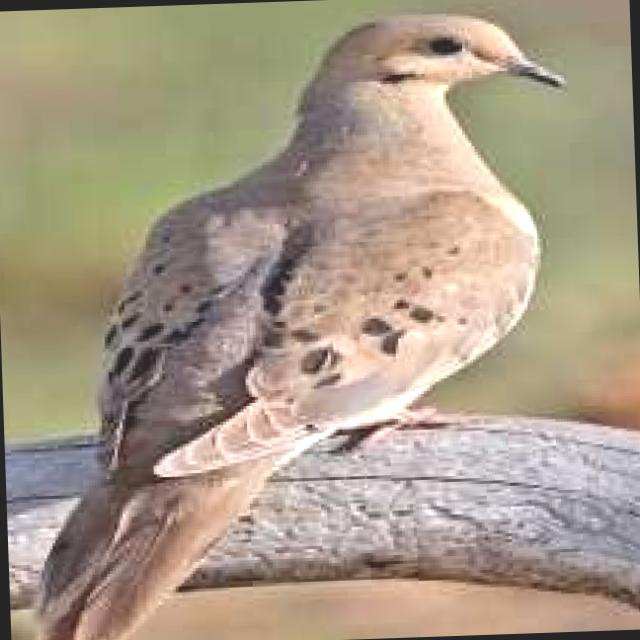bird: (0, 0, 589, 640)
